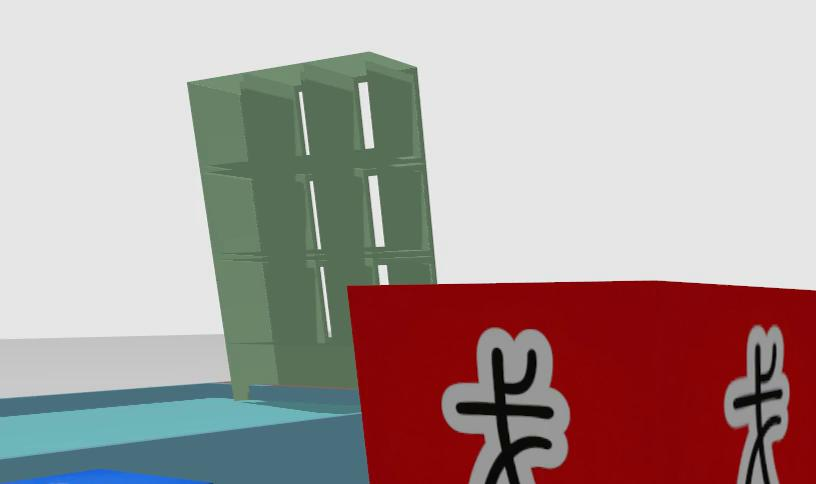KFS_FAKE: (350, 281, 816, 484), (442, 328, 570, 484), (725, 326, 790, 484)
KFS_REAL: (0, 469, 210, 484)
